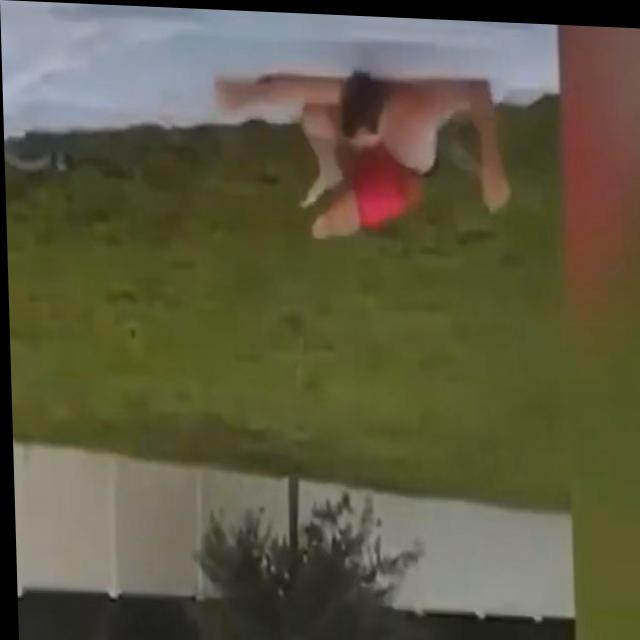fall: (201, 58, 512, 261)
